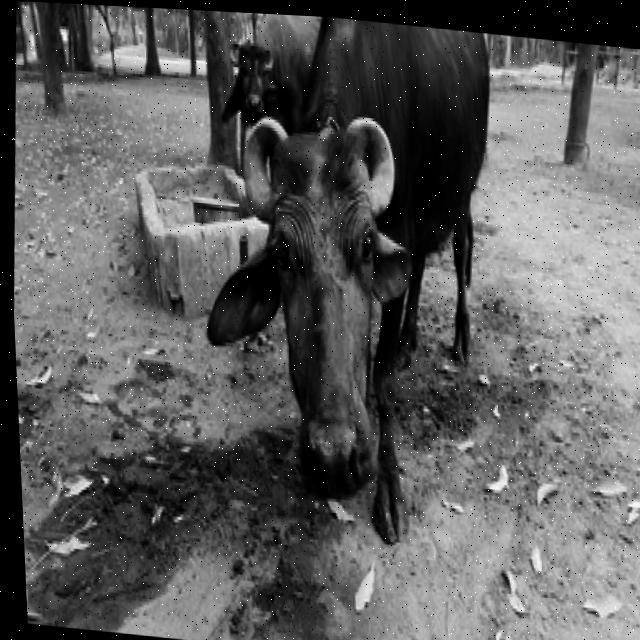Buffalo: (181, 9, 515, 554)
